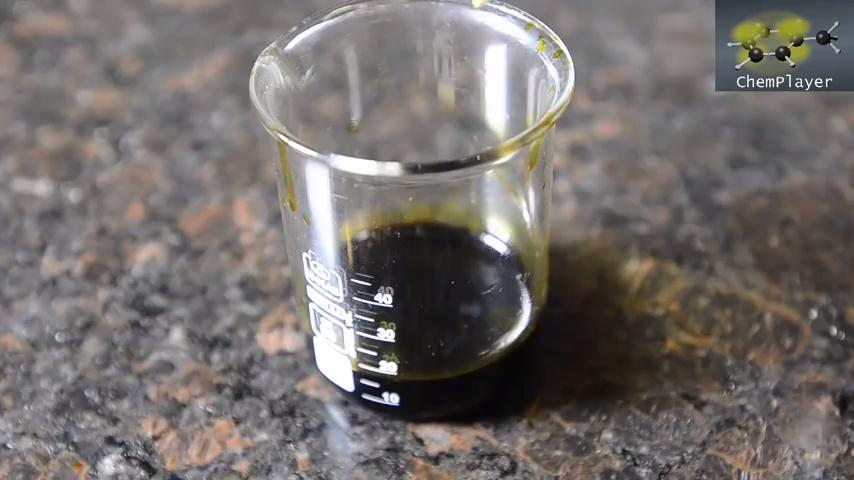Beaker: (253, 19, 620, 421)
